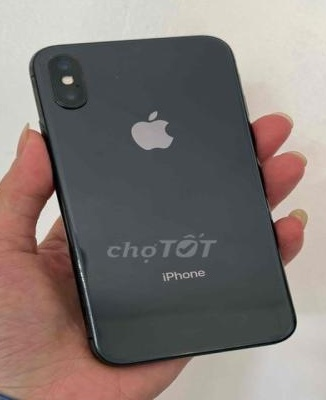scratch: (69, 259, 93, 282), (111, 70, 125, 82), (83, 309, 97, 317), (46, 54, 56, 61)
